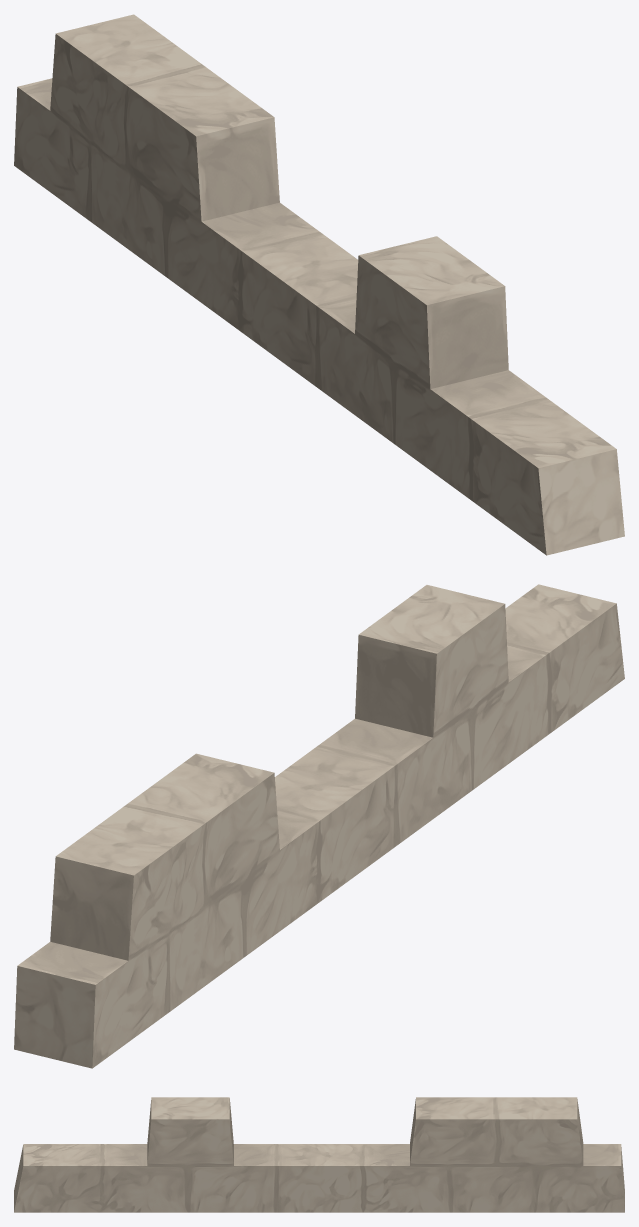
Rendered from murek_2.obj.
The picture shows the model from 3 angles, top to bottom: view 1: azimuth 30°, elevation 25°; view 2: azimuth 150°, elevation 25°; view 3: azimuth 270°, elevation 25°; orthographic projection. The views are drawn at different scales.
Visible parts, largest first — view 1: Vert.002; view 2: Vert.002; view 3: Vert.002.
Part boxes in pixels (bbox=[...]): Vert.002: bbox=[14, 14, 624, 555]; Vert.002: bbox=[14, 584, 624, 1068]; Vert.002: bbox=[14, 1097, 624, 1212].
Bounding box in the file's own units: 4.2 × 8.32 × 49.38.
1 material, 1 textured.
